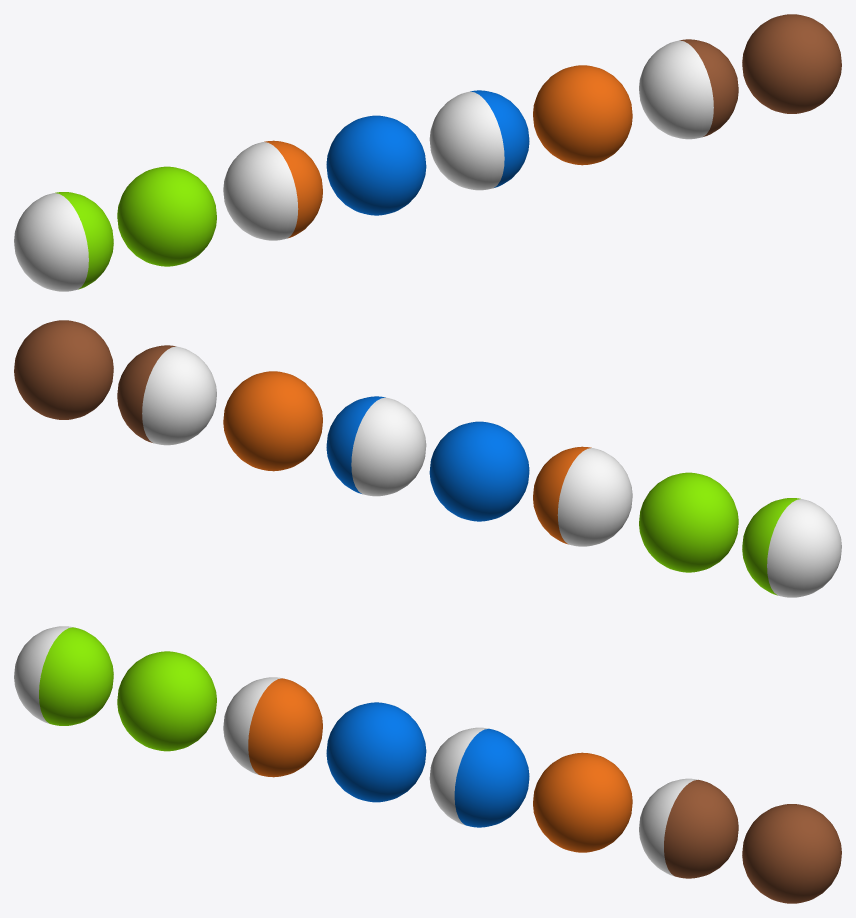
Rendered from ColorCodingSphere.glb.
The picture shows the model from 3 angles, top to bottom: view 1: azimuth 30°, elevation 25°; view 2: azimuth 150°, elevation 25°; view 3: azimuth 330°, elevation 25°; orthographic projection.
Parts seen in each view (by area): view 1: C2, C7, C4, C5, C3, C6, C1, C8; view 2: C2, C7, C4, C5, C3, C6, C1, C8; view 3: C2, C7, C4, C3, C6, C5, C1, C8.
Part boxes in pixels (bbox=[...]): C2: bbox=[117, 166, 216, 266]; C7: bbox=[639, 39, 738, 139]; C4: bbox=[326, 115, 426, 215]; C5: bbox=[429, 90, 529, 190]; C3: bbox=[223, 140, 322, 240]; C6: bbox=[533, 65, 632, 165]; C1: bbox=[14, 192, 113, 291]; C8: bbox=[742, 14, 841, 113]; C2: bbox=[639, 472, 738, 572]; C7: bbox=[117, 345, 216, 445]; C4: bbox=[429, 421, 529, 521]; C5: bbox=[326, 396, 426, 496]; C3: bbox=[533, 446, 632, 546]; C6: bbox=[223, 371, 322, 471]; C1: bbox=[742, 498, 841, 597]; C8: bbox=[14, 320, 113, 419]; C2: bbox=[117, 651, 216, 751]; C7: bbox=[639, 778, 738, 878]; C4: bbox=[326, 702, 426, 802]; C3: bbox=[223, 677, 322, 777]; C6: bbox=[533, 752, 632, 852]; C5: bbox=[429, 727, 529, 827]; C1: bbox=[14, 626, 113, 725]; C8: bbox=[742, 804, 841, 903].
Size of the model in its own units: 0.2709 by 0.0288 by 0.0288.
